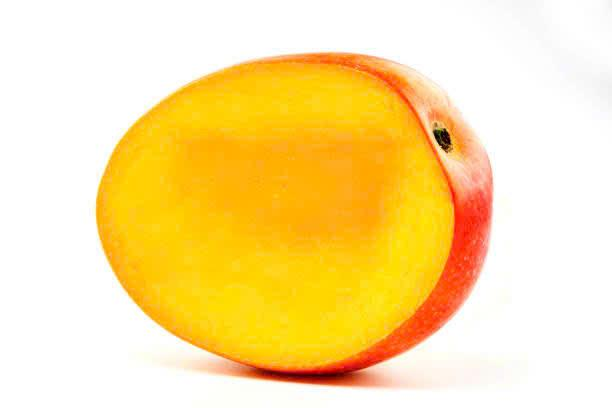mango: (93, 25, 492, 382)
